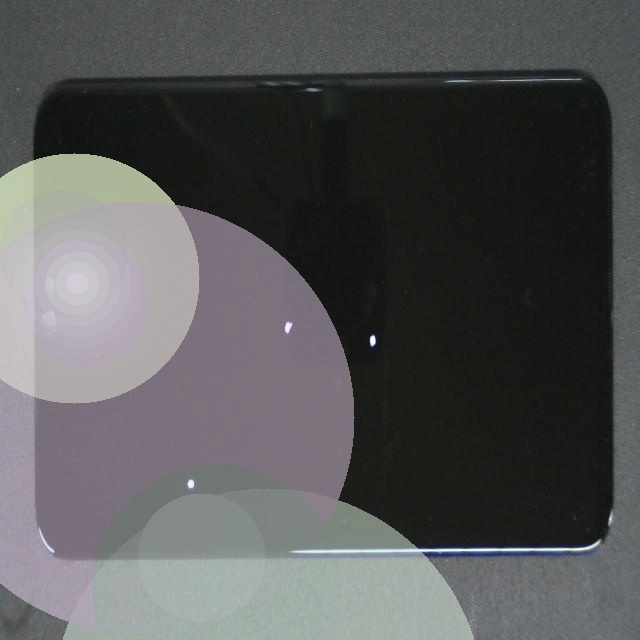stain: (199, 152, 559, 476), (160, 166, 447, 458), (101, 224, 279, 640)
